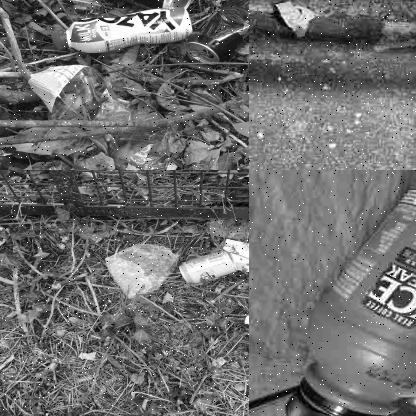metal: (187, 0, 248, 63), (182, 248, 236, 282), (84, 0, 196, 11)
plastic: (282, 170, 415, 415), (21, 61, 187, 169), (56, 9, 193, 50), (103, 241, 175, 295), (275, 0, 315, 37), (224, 236, 248, 284)
